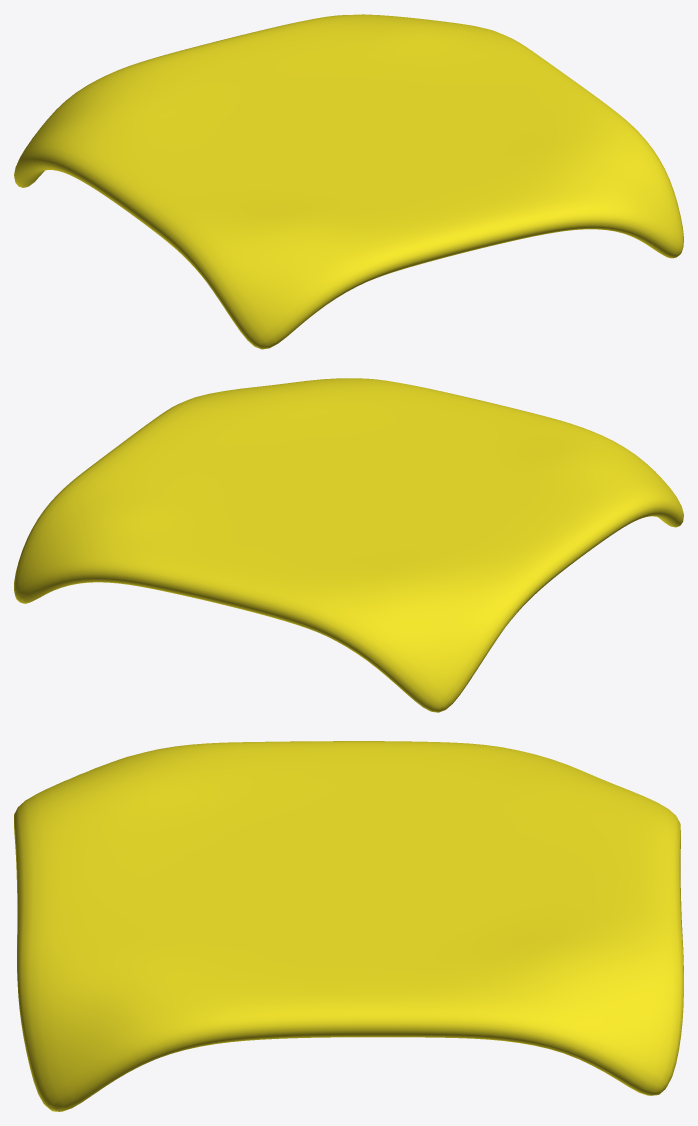
The model's file is cheese.fbx.
3 views of the same model, one above another, from view 1: azimuth 30°, elevation 25°; view 2: azimuth 150°, elevation 25°; view 3: azimuth 270°, elevation 25° (orthographic). The views are drawn at different scales.
Parts seen in each view (by area): view 1: Plane.001; view 2: Plane.001; view 3: Plane.001.
Part boxes in pixels (x1,y1,x2,y2): Plane.001: [14, 14, 683, 349]; Plane.001: [14, 378, 683, 712]; Plane.001: [14, 741, 683, 1111].
Bounding box in the file's own units: 173 × 33.41 × 173.
